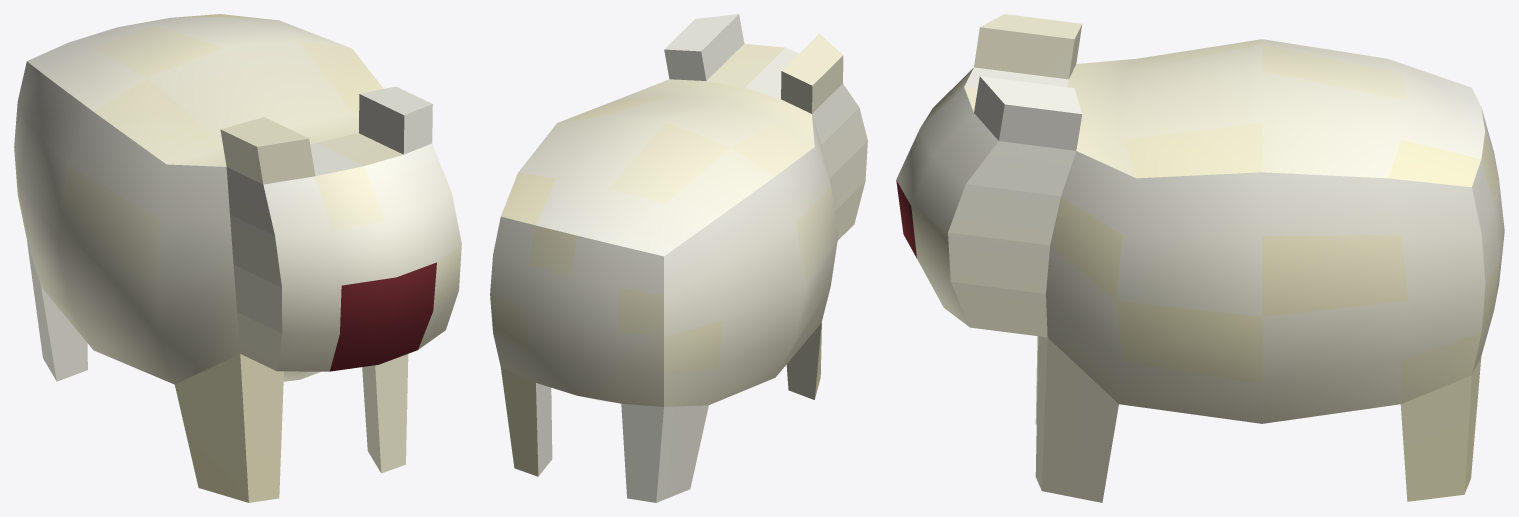
Rendered from cow_two.FBX.
The picture shows the model from 3 angles, left to right: view 1: azimuth 30°, elevation 25°; view 2: azimuth 150°, elevation 25°; view 3: azimuth 270°, elevation 25°; orthographic projection. The views are drawn at different scales.
Parts seen in each view (by area): view 1: Box005; view 2: Box005; view 3: Box005.
Part boxes in pixels (x1,y1,x2,y2): Box005: [14, 14, 461, 502]; Box005: [490, 14, 867, 502]; Box005: [896, 14, 1504, 502].
Bounding box in the file's own units: 4.5 × 4.91 × 6.77.
